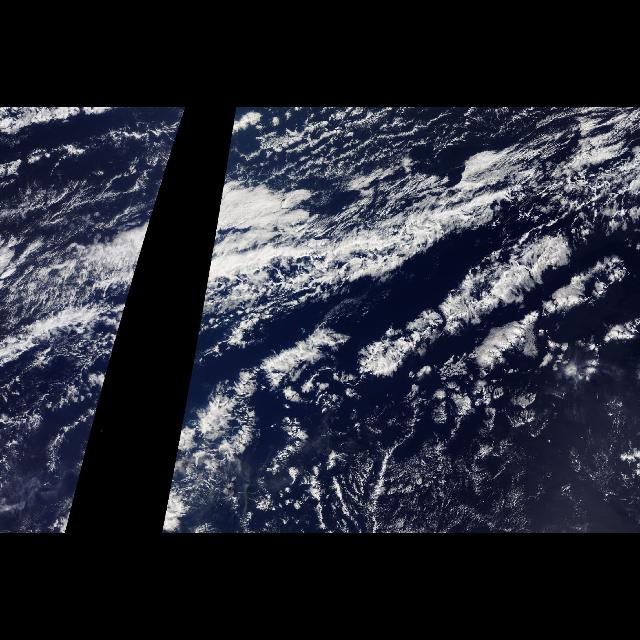Fish: (212, 195, 606, 367)
